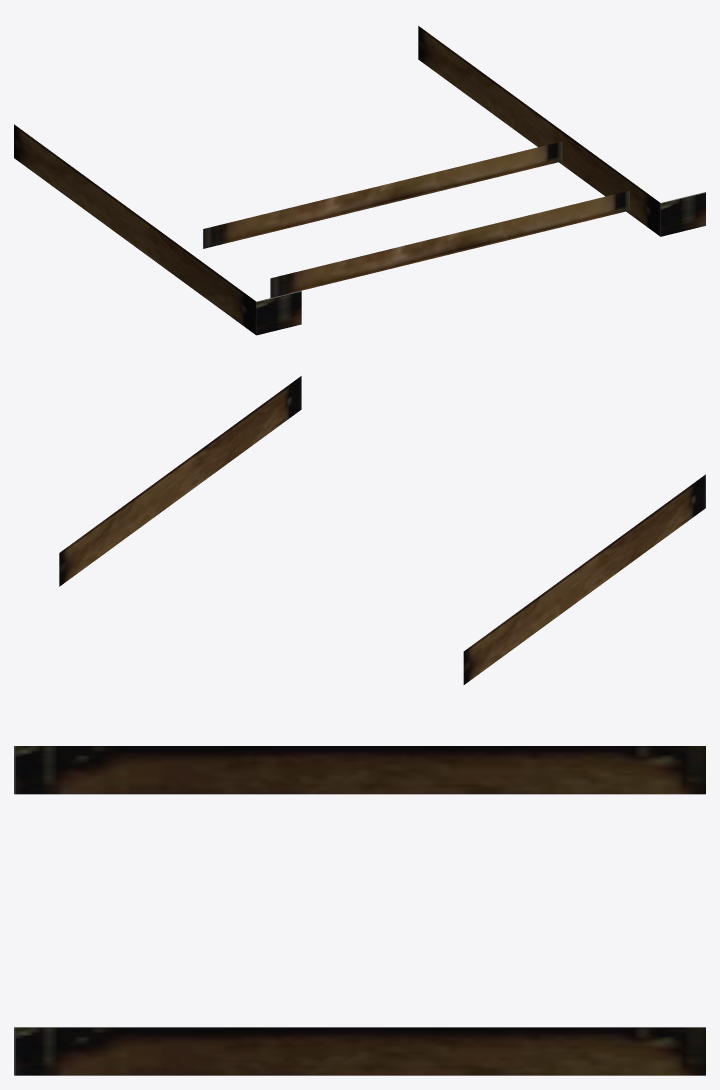
3 renders of one model, top to bottom at view 1: azimuth 30°, elevation 25°; view 2: azimuth 150°, elevation 25°; view 3: azimuth 270°, elevation 25°, orthographic. The views are drawn at different scales.
Visible parts, largest first — view 1: model_Object11; view 2: model_Object11; view 3: model_Object11.
Boxes of the visible parts, x1,y1,x2,y2 form: model_Object11: (14, 26, 705, 335); model_Object11: (59, 376, 705, 684); model_Object11: (14, 746, 705, 1075).
Bounding box in the file's own units: 1.98 × 0.1427 × 1.85.
1 material, 1 textured.
